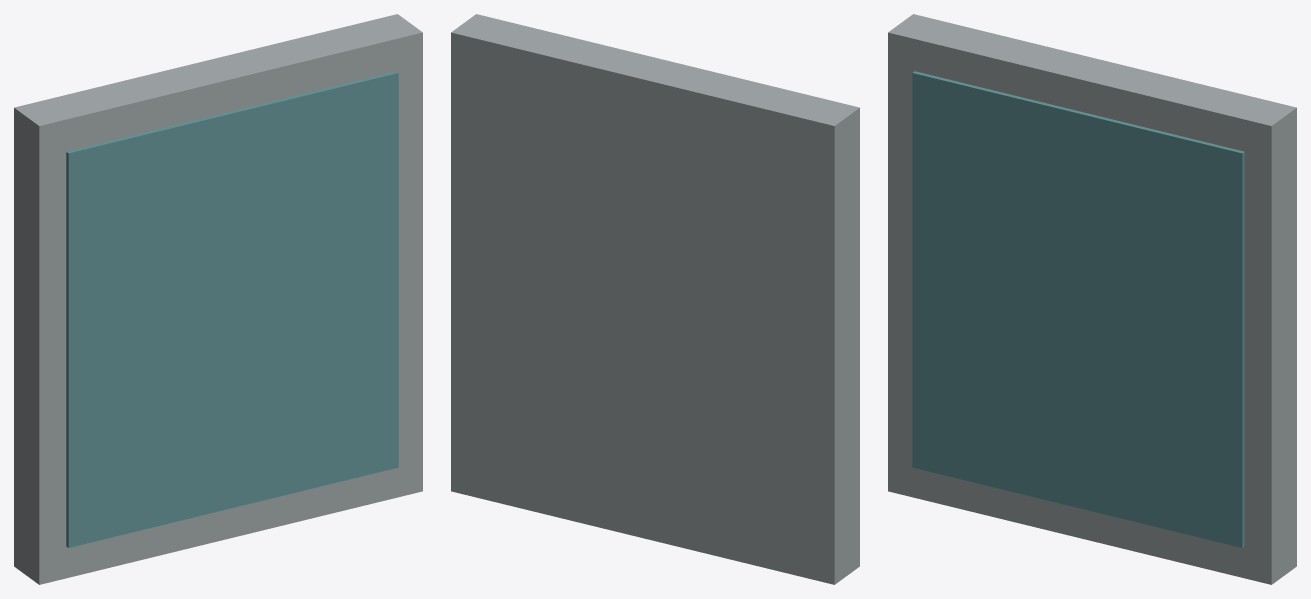
The model's file is MirrorFrame.glb.
3 renders of one model, left to right at view 1: azimuth 30°, elevation 25°; view 2: azimuth 150°, elevation 25°; view 3: azimuth 330°, elevation 25°, orthographic.
Parts seen in each view (by area): view 1: bathroom-mirror-frame; view 2: bathroom-mirror-frame; view 3: bathroom-mirror-frame.
Part boxes in pixels (box(x1,y1,x2,y2)): bathroom-mirror-frame: box(14, 14, 422, 584); bathroom-mirror-frame: box(451, 14, 859, 584); bathroom-mirror-frame: box(888, 14, 1296, 584).
Size of the model in its own units: 0.7 by 0.8 by 0.0876.
